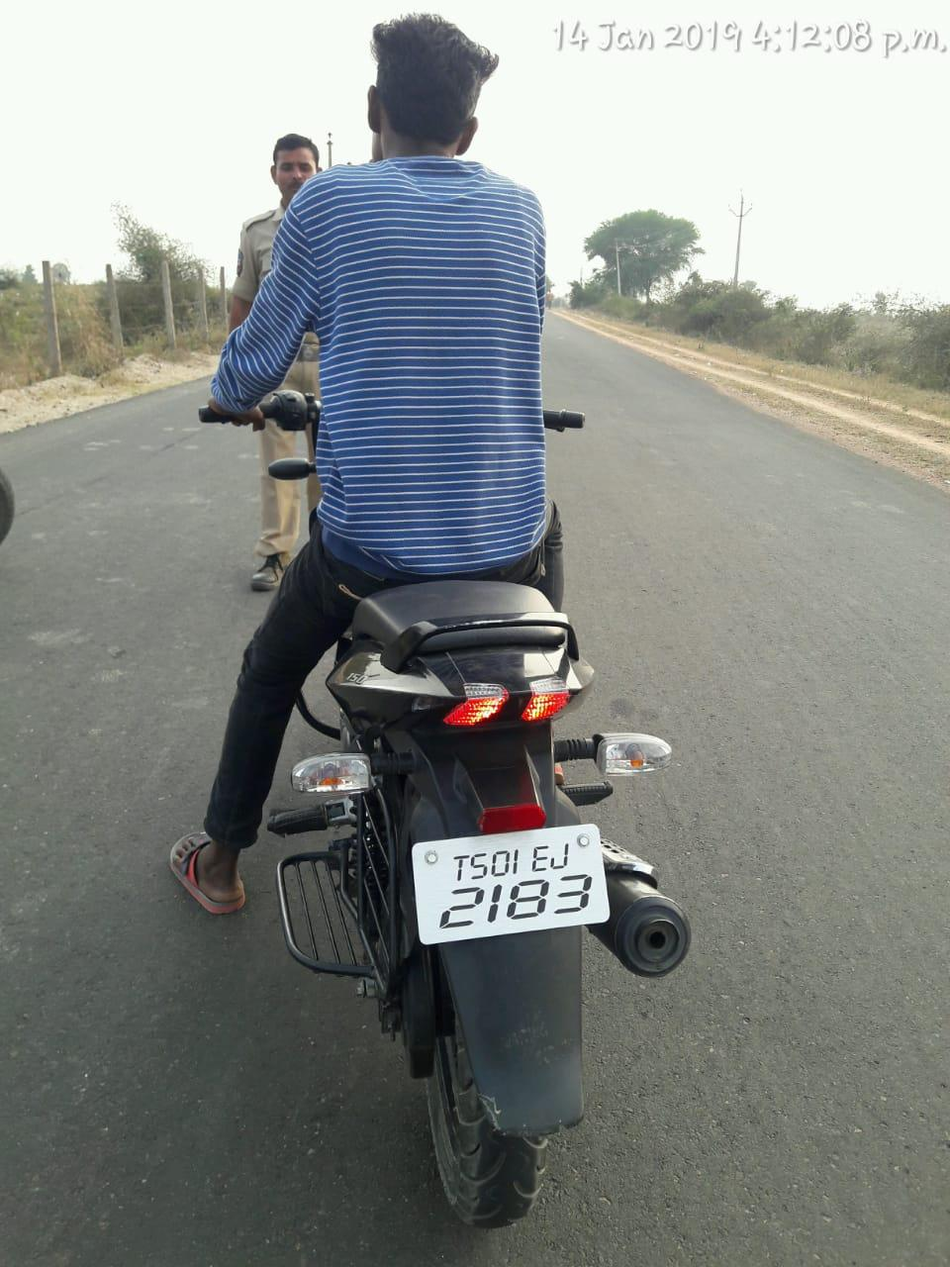plate: (401, 821, 627, 949)
